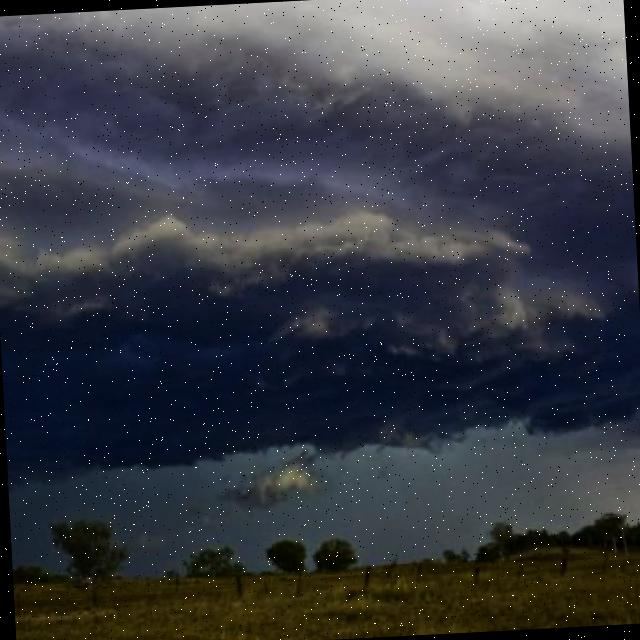Cb: (1, 15, 640, 505)
